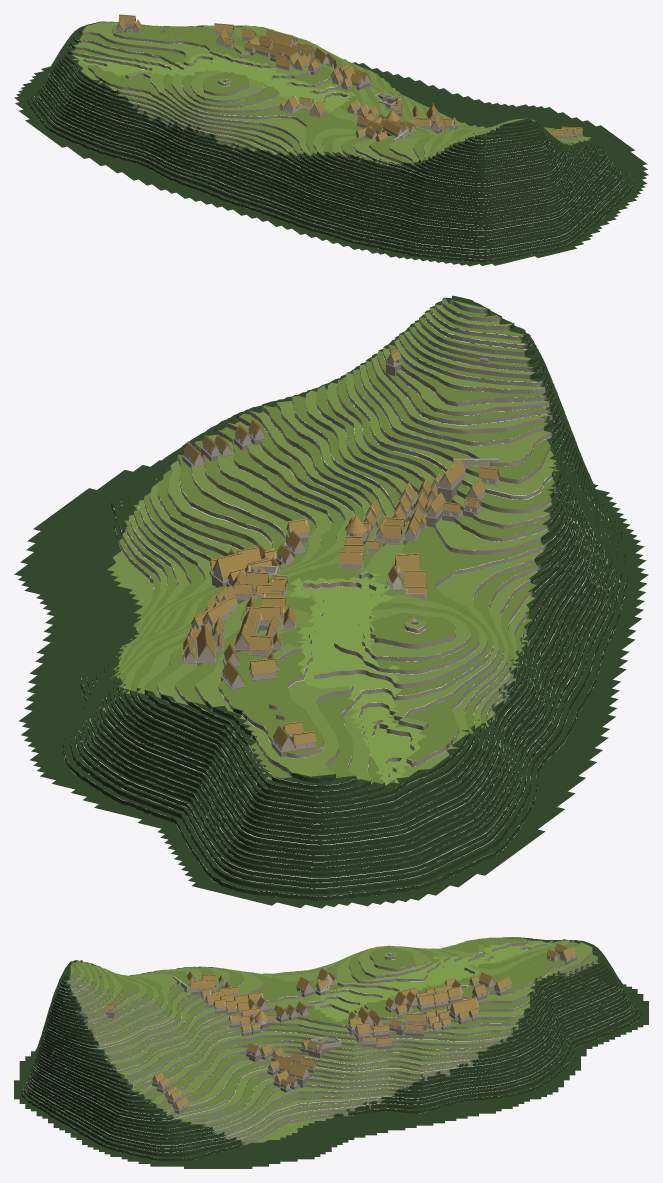
File: machu-picchu.glb
3 views of the same model, one above another, from view 1: azimuth 30°, elevation 25°; view 2: azimuth 150°, elevation 25°; view 3: azimuth 270°, elevation 25° (orthographic). The views are drawn at different scales.
Parts seen in each view (by area): view 1: mp-terraces, mp-terrace-walls, mp-thatch, mp-wall, mp-plat; view 2: mp-terraces, mp-terrace-walls, mp-thatch, mp-wall, mp-plat; view 3: mp-terraces, mp-terrace-walls, mp-thatch, mp-wall, mp-plat.
Boxes of the visible parts, bbox=[...] form: mp-terraces: bbox=[14, 21, 648, 266]; mp-terrace-walls: bbox=[27, 26, 633, 262]; mp-thatch: bbox=[116, 14, 582, 140]; mp-wall: bbox=[116, 15, 582, 141]; mp-plat: bbox=[116, 26, 582, 141]; mp-terraces: bbox=[14, 295, 648, 908]; mp-terrace-walls: bbox=[62, 297, 628, 900]; mp-thatch: bbox=[183, 349, 499, 747]; mp-wall: bbox=[183, 356, 498, 751]; mp-plat: bbox=[182, 362, 499, 757]; mp-terraces: bbox=[14, 937, 648, 1168]; mp-terrace-walls: bbox=[21, 940, 641, 1161]; mp-thatch: bbox=[106, 943, 576, 1108]; mp-wall: bbox=[107, 947, 575, 1110]; mp-plat: bbox=[106, 954, 576, 1113].
Bounding box in the file's own units: 86.01 × 22.03 × 112.
